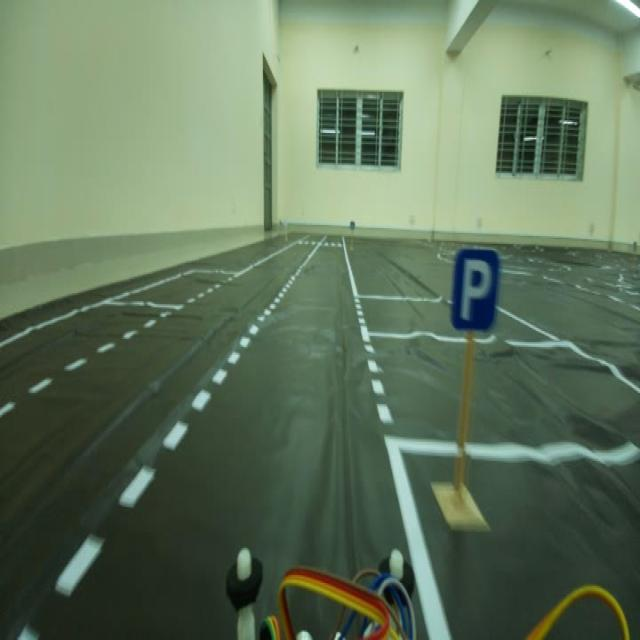parking: (444, 236, 512, 339)
